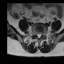CCS_normal: (38, 32, 39, 40)
LFS_severe_stenosis: (41, 32, 43, 37)
LLS_normal: (39, 32, 41, 37)
RFS_severe_stenosis: (35, 31, 36, 37)
RLS_normal: (36, 32, 38, 37)
